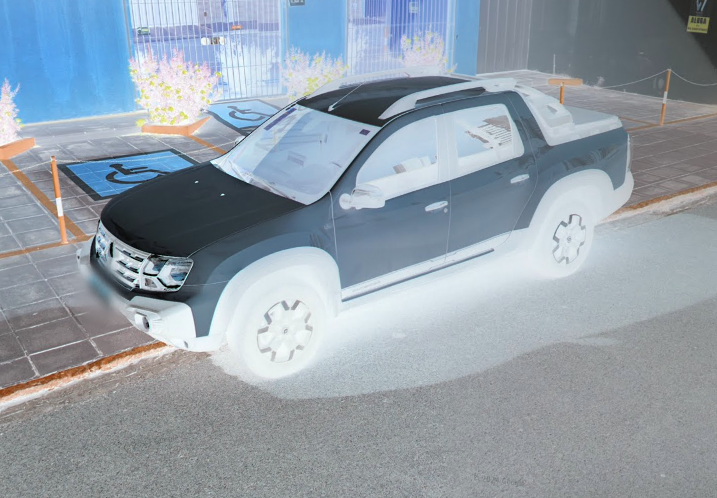car: (72, 63, 636, 388)
